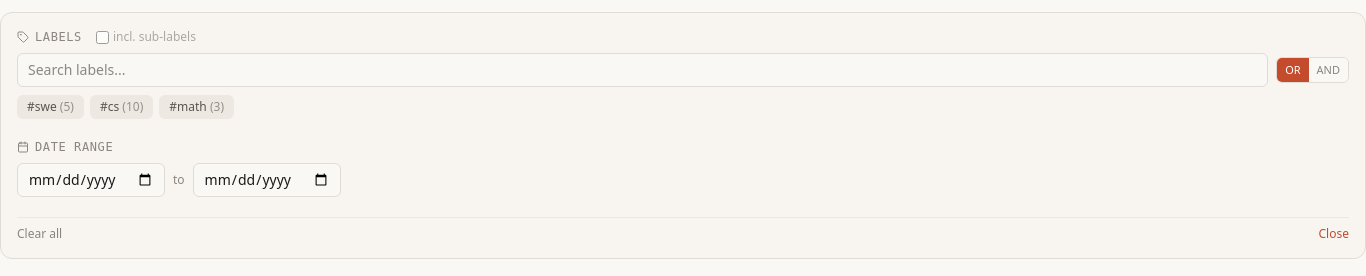
Scenario: FilterPanel › filters labels by search
Expected: the button "#swe (5)" is shown, [17,95,84,119]
In the field with placeholder "Search labels...": coordinates (643, 70) [17,53,1268,87], type "math"
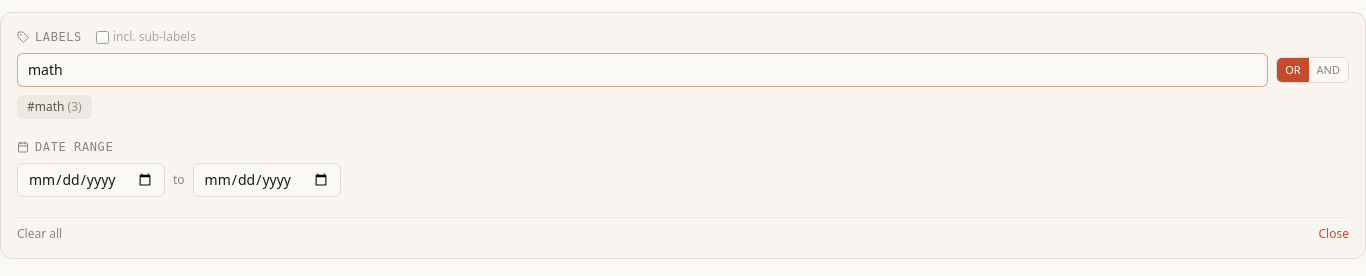
Expected: the button "#math (3)" is shown, [17,95,92,119]
Now the button "#swe" is gone
Now the button "#cs" is gone
